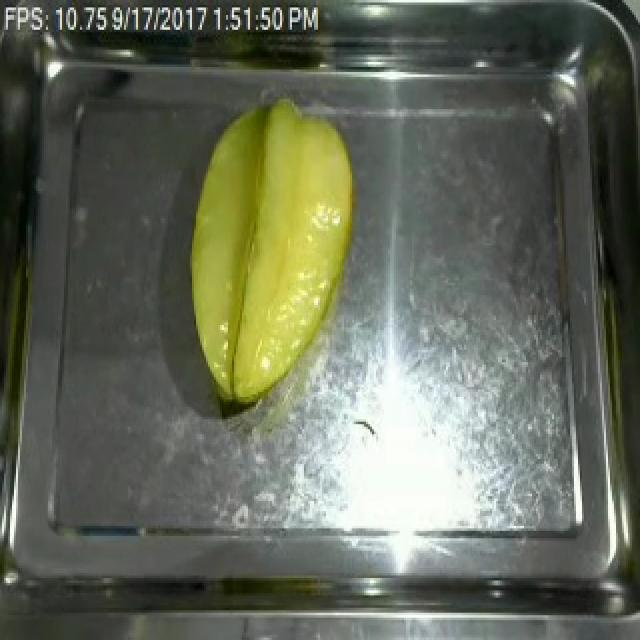fruit: (174, 90, 364, 420)
